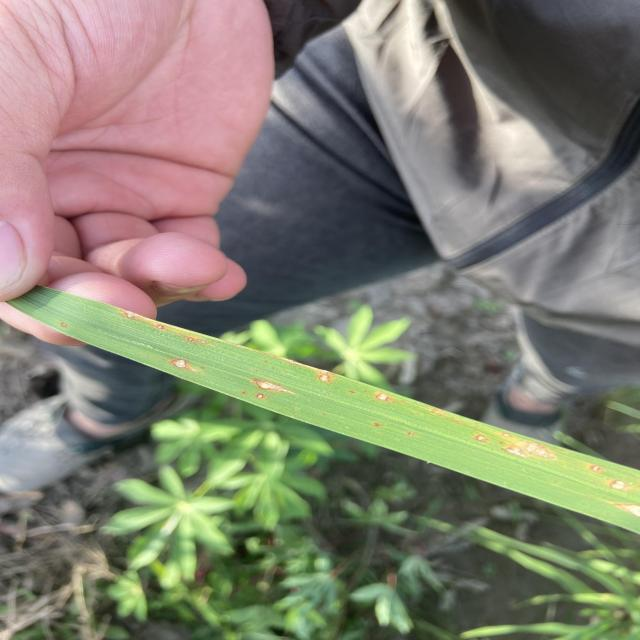Dao on: (251, 379, 293, 393), (524, 442, 555, 458), (615, 503, 640, 517), (608, 480, 630, 491), (505, 446, 526, 457), (374, 391, 392, 402), (318, 371, 332, 382), (172, 360, 187, 368), (474, 435, 488, 442), (589, 465, 603, 472), (255, 393, 266, 399), (156, 324, 165, 330), (501, 433, 512, 437), (187, 337, 195, 342), (60, 323, 68, 327)
